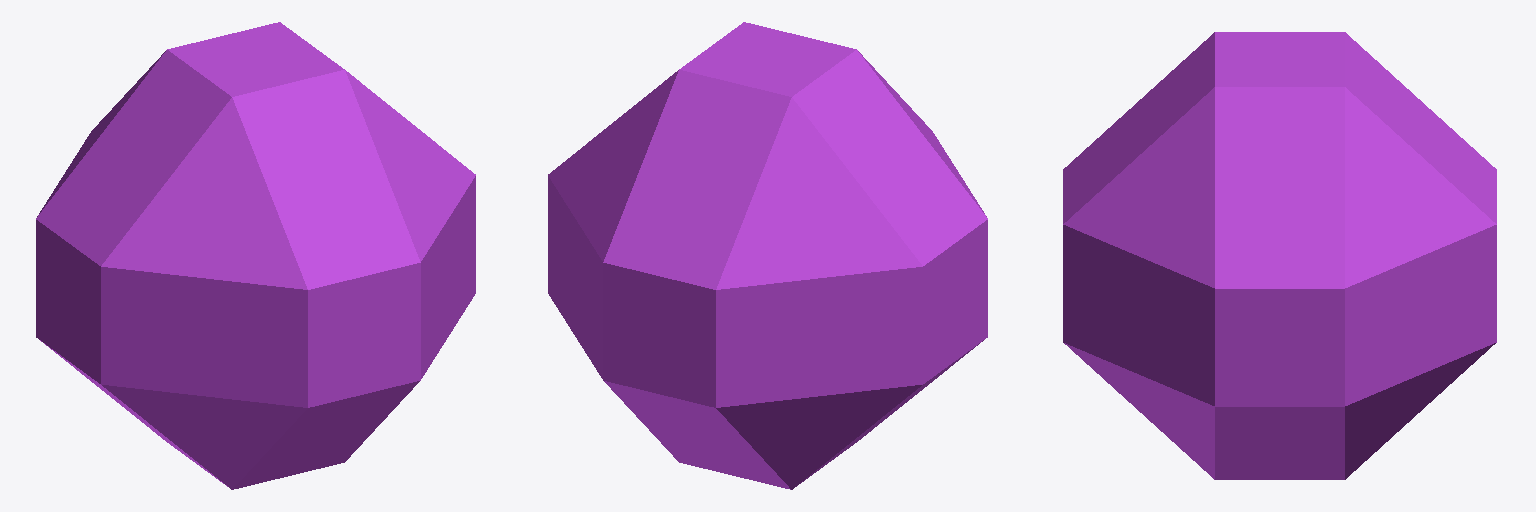
File: krysztalek.obj
The picture shows the model from 3 angles: view 1: azimuth 30°, elevation 25°; view 2: azimuth 150°, elevation 25°; view 3: azimuth 270°, elevation 25°; orthographic projection.
Visible parts, largest first — view 1: Box001; view 2: Box001; view 3: Box001.
Part boxes in pixels (x1,y1,x2,y2): Box001: (36,22,475,489); Box001: (548,22,987,489); Box001: (1063,32,1496,479).
Bounding box in the file's own units: 20 × 20 × 20.